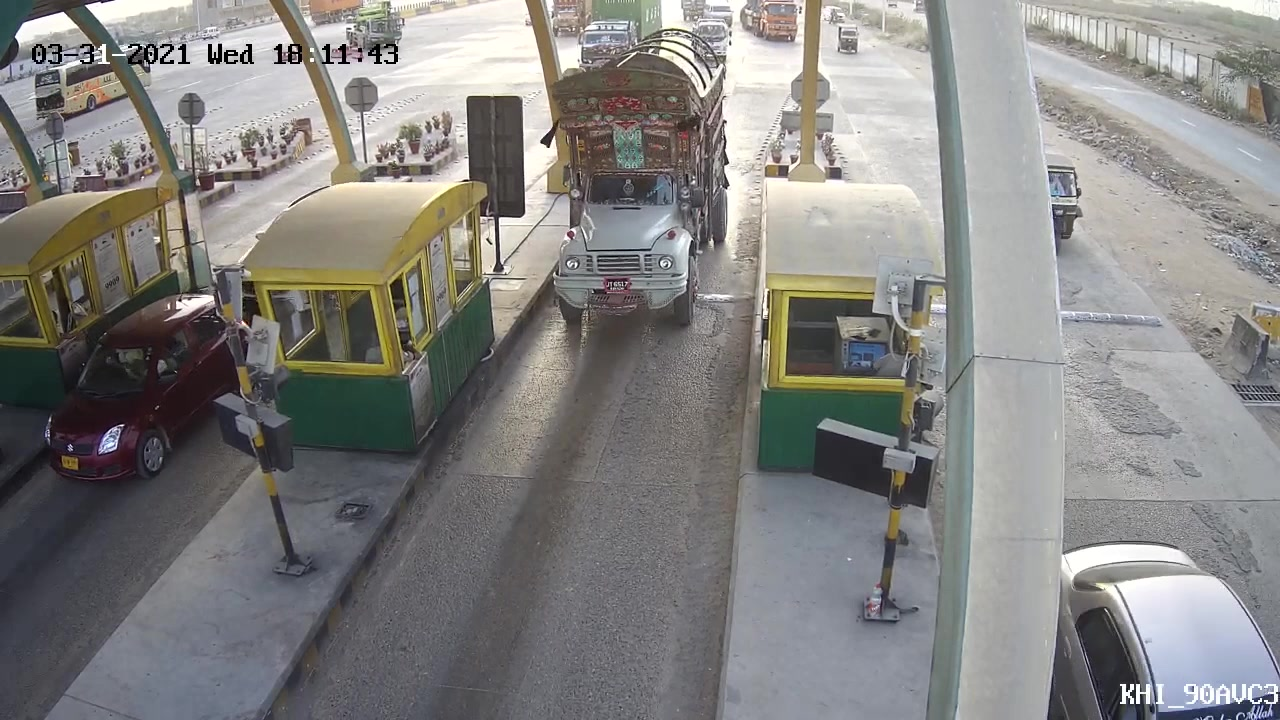F5: (523, 34, 732, 335)
